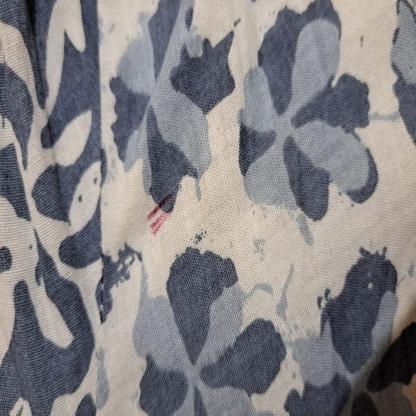spot: (146, 190, 174, 236)
